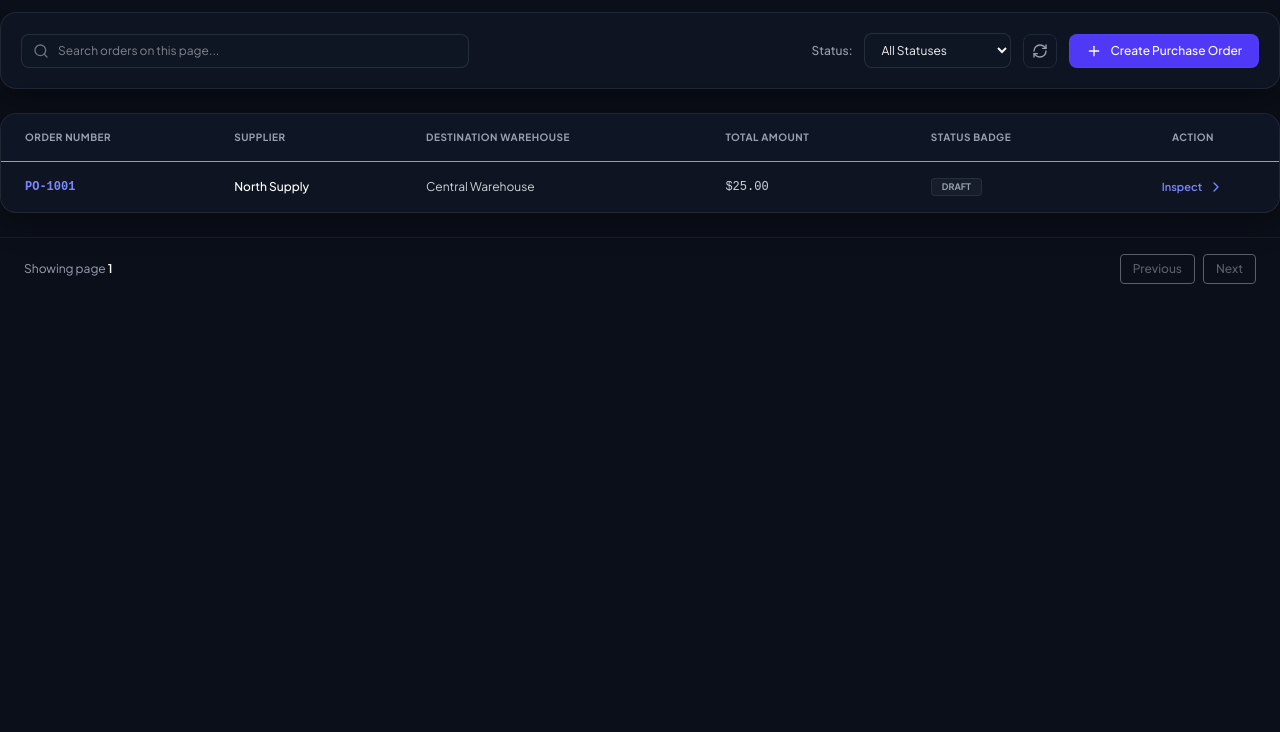
Test: purchase orders › shows item identity from the order response without loading catalog page zero
Click the button "Inspect" at point(1193, 187), box [1162, 179, 1224, 195]
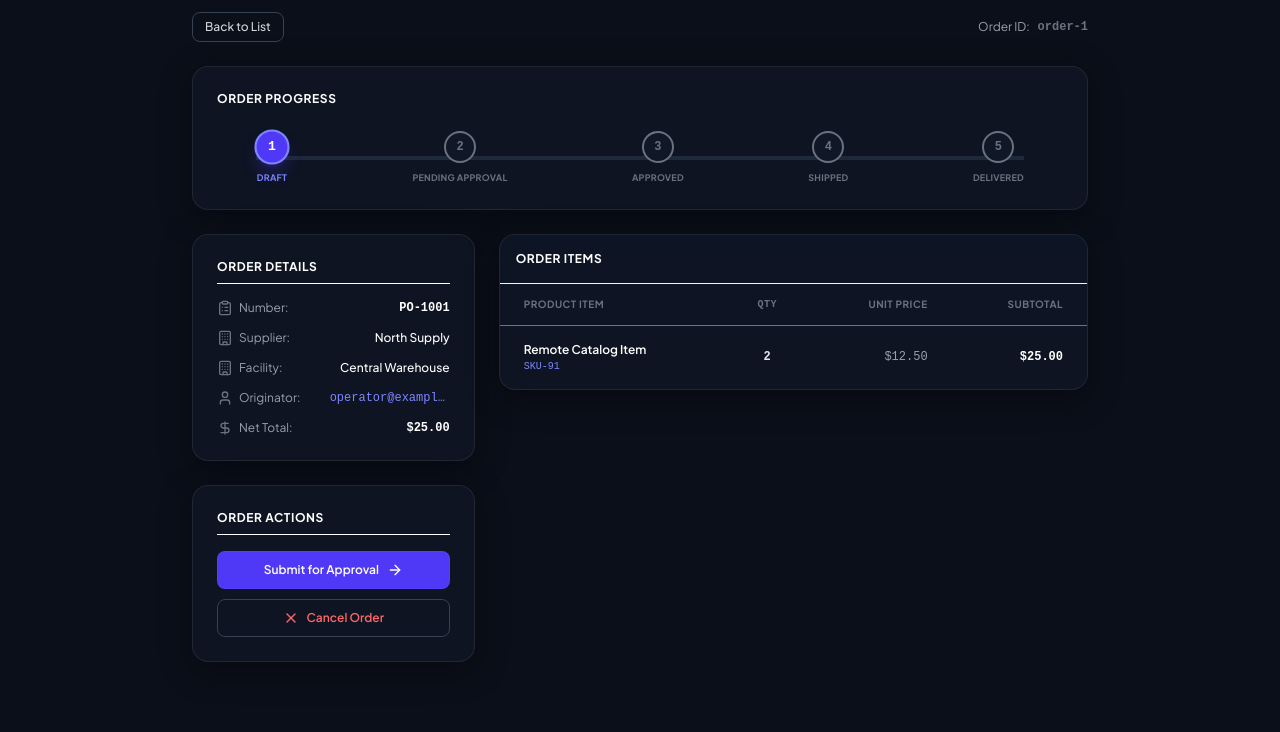
Expected: the text "Remote Catalog Item" is shown, [524, 342, 646, 357]
Expected: the text "SKU-91" is shown, [524, 361, 560, 372]
